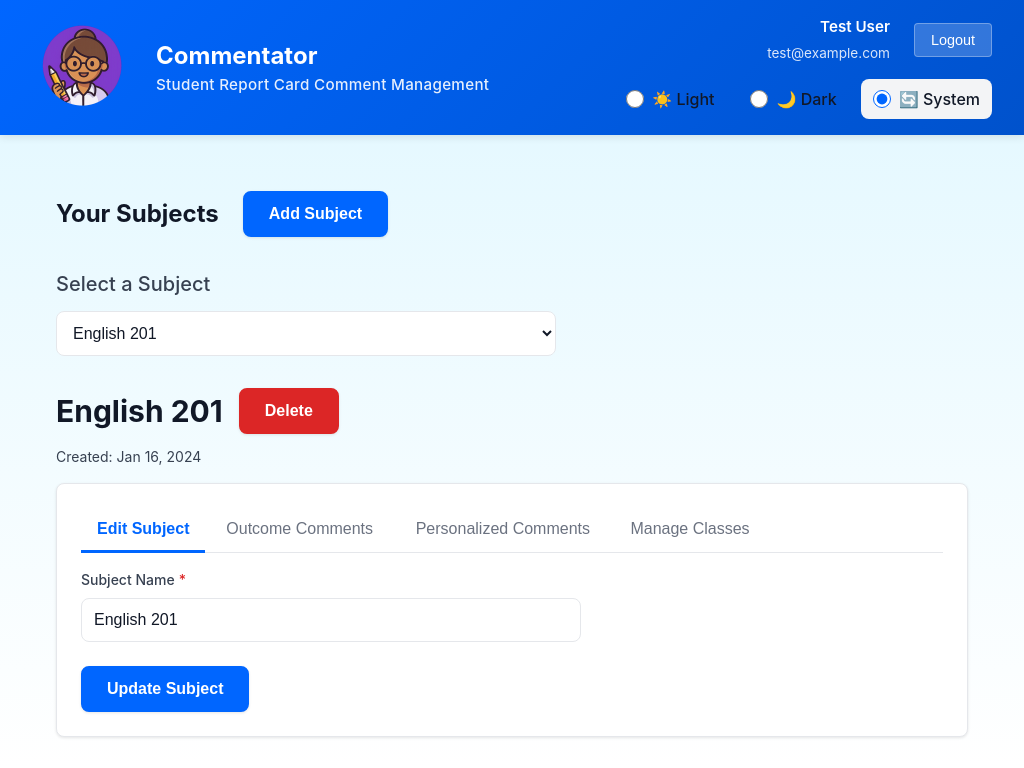
it: App › Delete Flow Integration › should close dialog and keep subject when deletion is cancelled
This screenshot has width=1024, height=768.
Expected: the heading "Your Subjects" is shown, [56,196,219,232]
// Select Mathematics 101 from dropdown
Select "Mathematics 101" in the dropdown named "select a subject to view": (306, 334) [56,311,556,356]
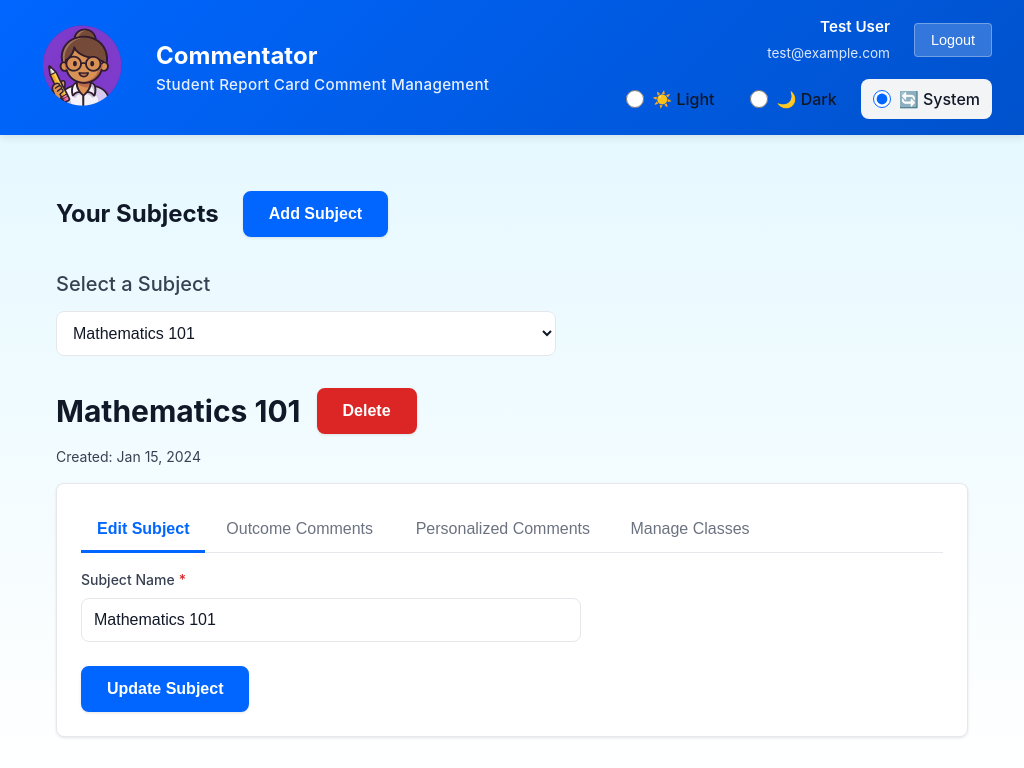
Now the element with test id "subject-item-65a1b2c3d4e5f6g7h8i9j0k1" is shown, box [56,388,968,737]
// Click delete button
Click the button with aria-label "delete mathematics 101": (366, 411) [316,388,416,434]
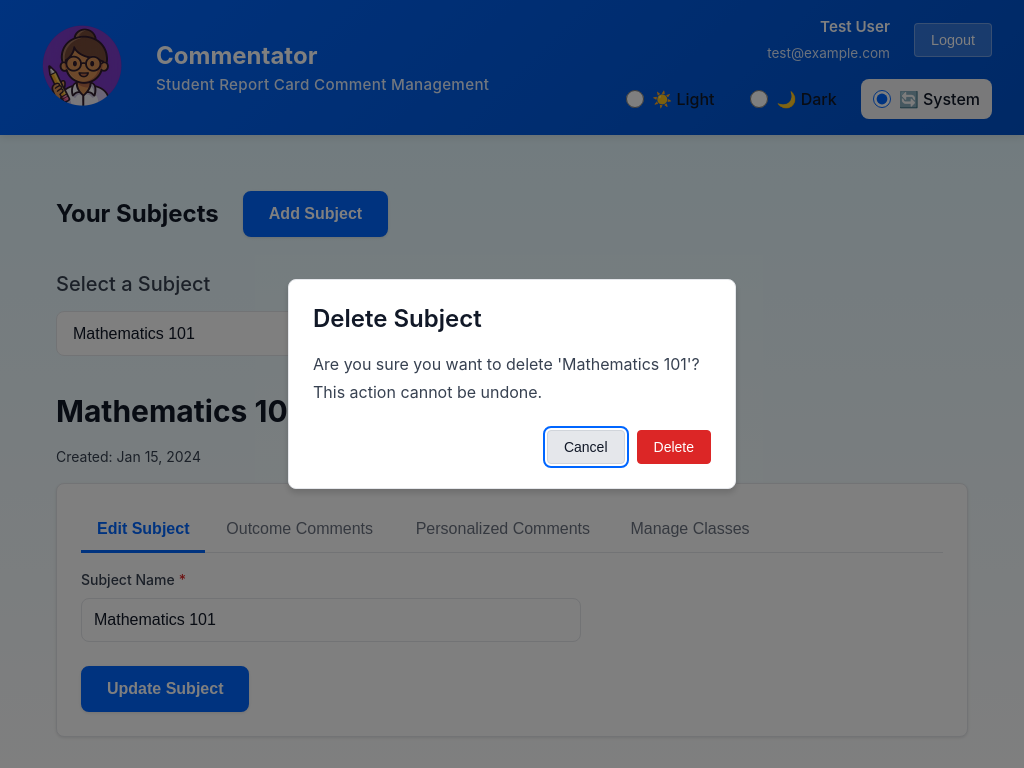
Now the dialog is shown, box [288,279,736,489]
Now the text "Are you sure you want to delete 'Mathematics 101'" is shown, box [313,354,700,402]
Now the button "Cancel" is shown
Click the button "Cancel": (586, 447) [547,430,624,464]
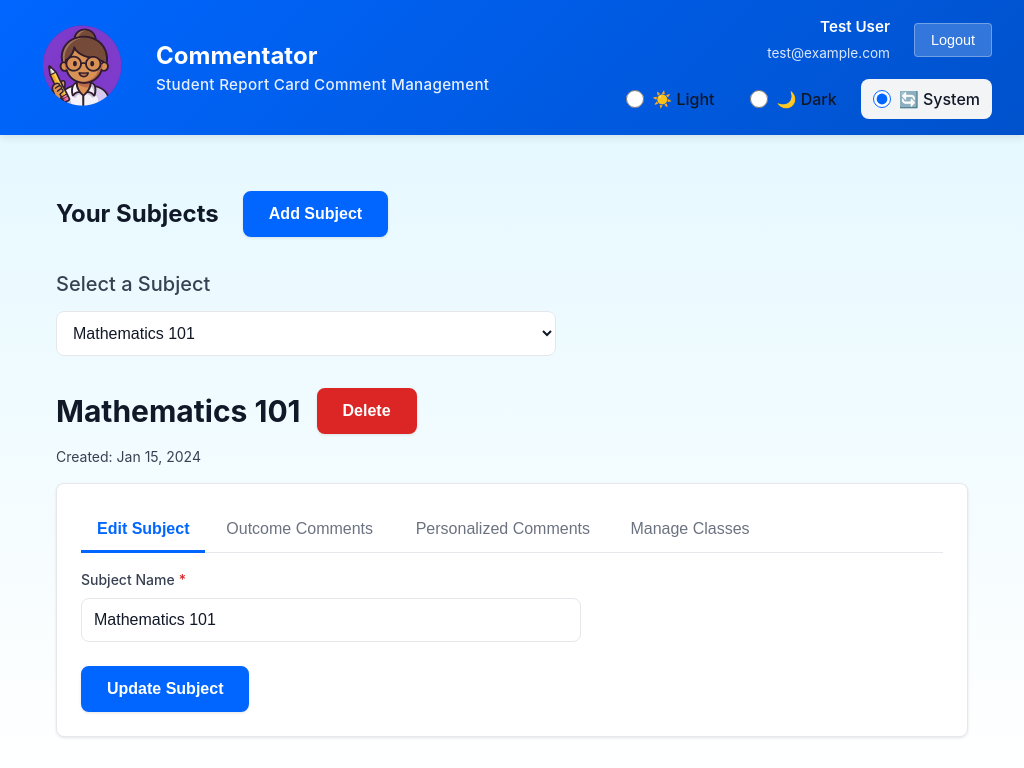
Now the element with test id "subject-item-65a1b2c3d4e5f6g7h8i9j0k1" is shown, box [56,388,968,737]
Now the text "Are you sure you want to delete 'Mathematics 101'" is gone
